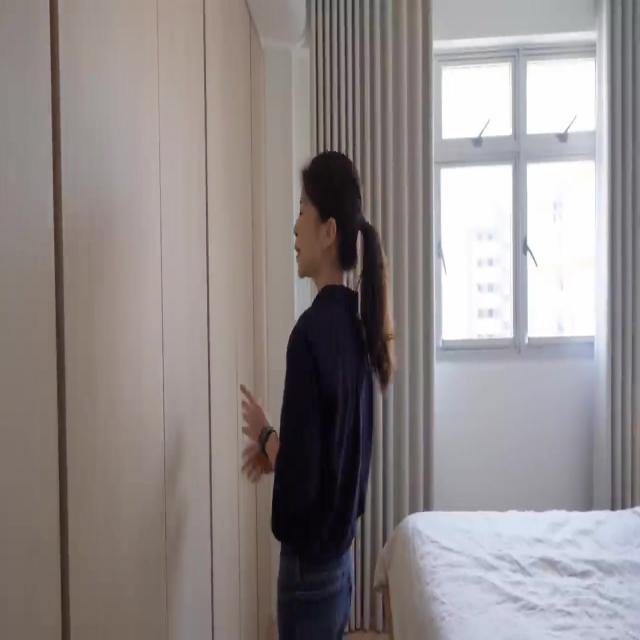obstacle: (0, 0, 272, 639), (373, 506, 640, 638)
person: (239, 149, 393, 639)
